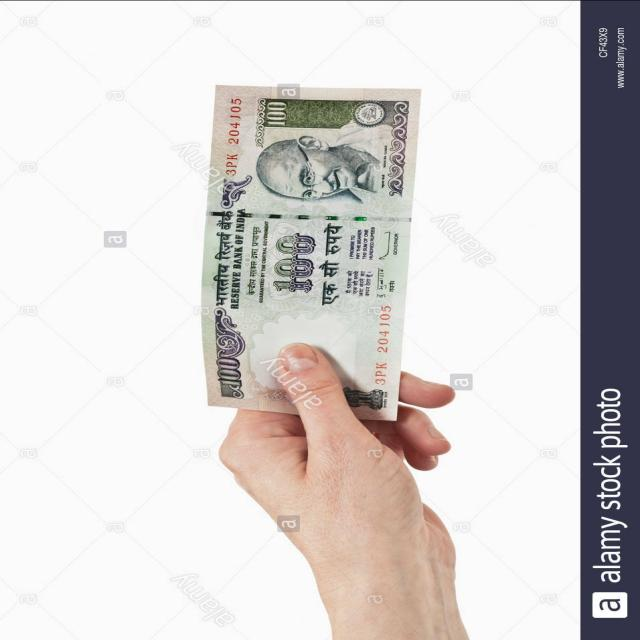100IndianRupees: (211, 88, 417, 425)
